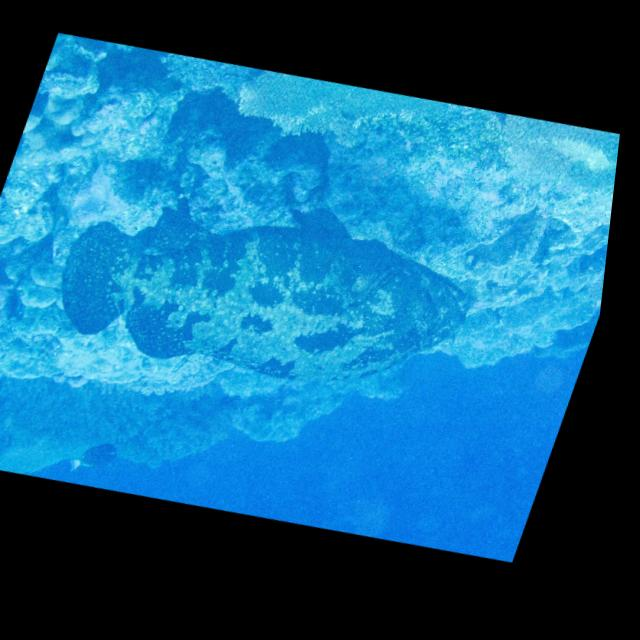Groupers: (25, 138, 504, 437)
